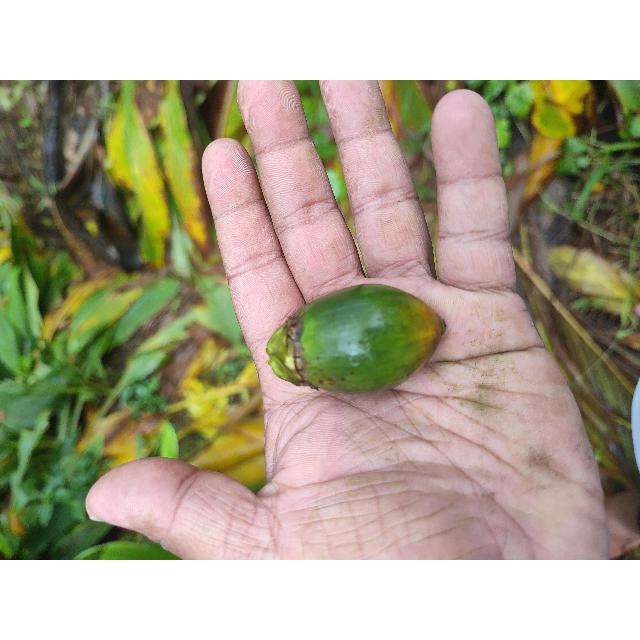damaged: (265, 284, 446, 395)
